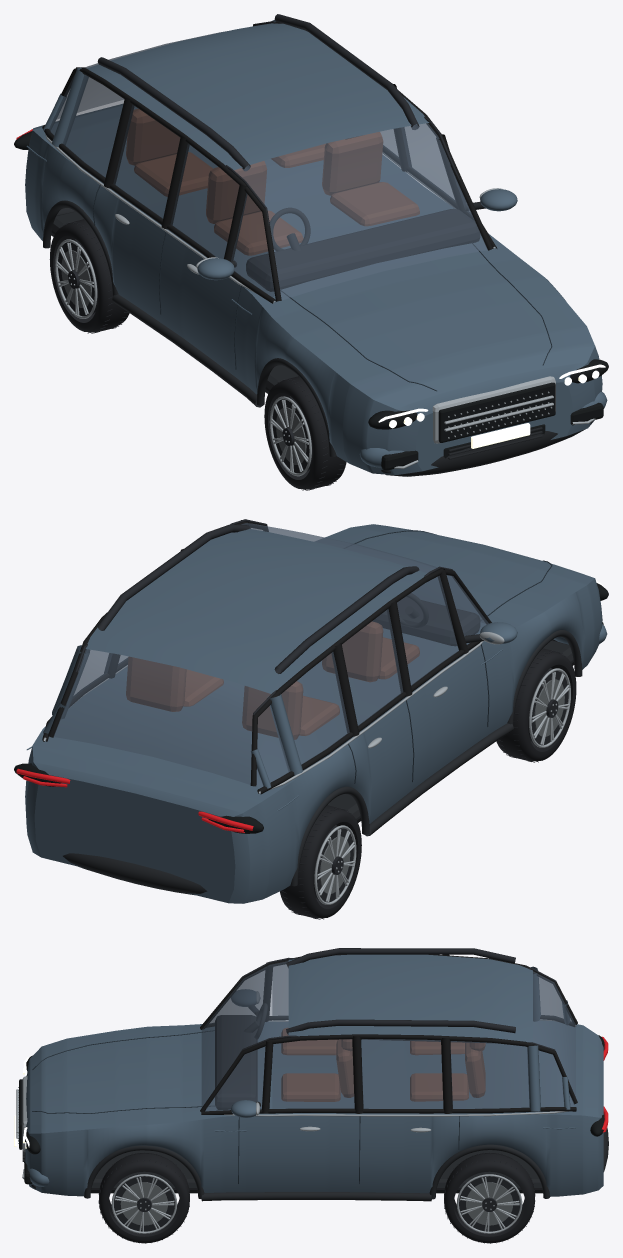
File: SUV_Rheydt.glb
3 renders of one model, top to bottom at view 1: azimuth 30°, elevation 25°; view 2: azimuth 150°, elevation 25°; view 3: azimuth 270°, elevation 25°, orthographic. The views are drawn at different scales.
Visible parts, largest first — view 1: Haube_und_Schulterlinie, Dach_und_Scheibenprofil, Karosserie_Seite, Dachblech, Armaturenbrett, Rad_Vorne_L_Mesh, Rad_Hinten_L_Mesh, Seitenscheibe_1, Seitenscheibe_2, Seitenscheibe_3, Grilleinsatz, Sitzlehne.002 (+30 smaller); view 2: Haube_und_Schulterlinie, Dachblech, Karosserie_Seite, Dach_und_Scheibenprofil, Heckabschluss, Rad_Hinten_L_Mesh, Rad_Vorne_L_Mesh, Seitenscheibe_3, Seitenscheibe_2, Seitenscheibe_1, Sitzlehne.003, Heckdiffusor (+25 smaller); view 3: Haube_und_Schulterlinie, Karosserie_Seite.001, Dachblech, Dach_und_Scheibenprofil, Rad_Hinten_R_Mesh, Rad_Vorne_R_Mesh, Seitenscheibe_2.001, Seitenscheibe_1.001, Seitenscheibe_3.001, Armaturenbrett, Unterboden, Fensterrahmen.003 (+24 smaller).
Boxes of the visible parts, bbox=[...] form: Haube_und_Schulterlinie: bbox=[32, 104, 594, 415]; Dach_und_Scheibenprofil: bbox=[57, 31, 487, 301]; Karosserie_Seite: bbox=[25, 130, 421, 475]; Dachblech: bbox=[87, 23, 429, 170]; Armaturenbrett: bbox=[246, 208, 480, 291]; Rad_Vorne_L_Mesh: bbox=[264, 376, 346, 490]; Rad_Hinten_L_Mesh: bbox=[49, 219, 129, 333]; Seitenscheibe_1: bbox=[170, 143, 239, 258]; Seitenscheibe_2: bbox=[113, 105, 180, 218]; Seitenscheibe_3: bbox=[63, 75, 124, 177]; Grilleinsatz: bbox=[438, 382, 555, 442]; Sitzlehne.002: bbox=[322, 132, 383, 195]; Haube_und_Schulterlinie: bbox=[32, 524, 594, 816]; Dachblech: bbox=[85, 528, 426, 693]; Karosserie_Seite: bbox=[229, 578, 602, 903]; Dach_und_Scheibenprofil: bbox=[53, 523, 485, 784]; Heckabschluss: bbox=[34, 775, 235, 903]; Rad_Hinten_L_Mesh: bbox=[280, 805, 361, 919]; Rad_Vorne_L_Mesh: bbox=[496, 648, 576, 762]; Seitenscheibe_3: bbox=[281, 652, 349, 764]; Seitenscheibe_2: bbox=[342, 609, 403, 725]; Seitenscheibe_1: bbox=[397, 576, 458, 685]; Sitzlehne.003: bbox=[126, 656, 186, 711]; Heckdiffusor: bbox=[63, 853, 207, 895]; Haube_und_Schulterlinie: bbox=[26, 1020, 603, 1133]; Karosserie_Seite.001: bbox=[25, 1114, 603, 1196]; Dachblech: bbox=[288, 954, 532, 1042]; Dach_und_Scheibenprofil: bbox=[201, 961, 575, 1107]; Rad_Hinten_R_Mesh: bbox=[444, 1152, 535, 1243]; Rad_Vorne_R_Mesh: bbox=[98, 1152, 189, 1243]; Seitenscheibe_2.001: bbox=[362, 1039, 443, 1108]; Seitenscheibe_1.001: bbox=[272, 1039, 354, 1108]; Seitenscheibe_3.001: bbox=[450, 1041, 529, 1108]; Armaturenbrett: bbox=[215, 1015, 257, 1109]; Unterboden: bbox=[91, 1150, 542, 1193]; Fensterrahmen.003: bbox=[200, 1034, 577, 1111].
Size of the model in its own units: 2.33 by 1.85 by 4.72.
